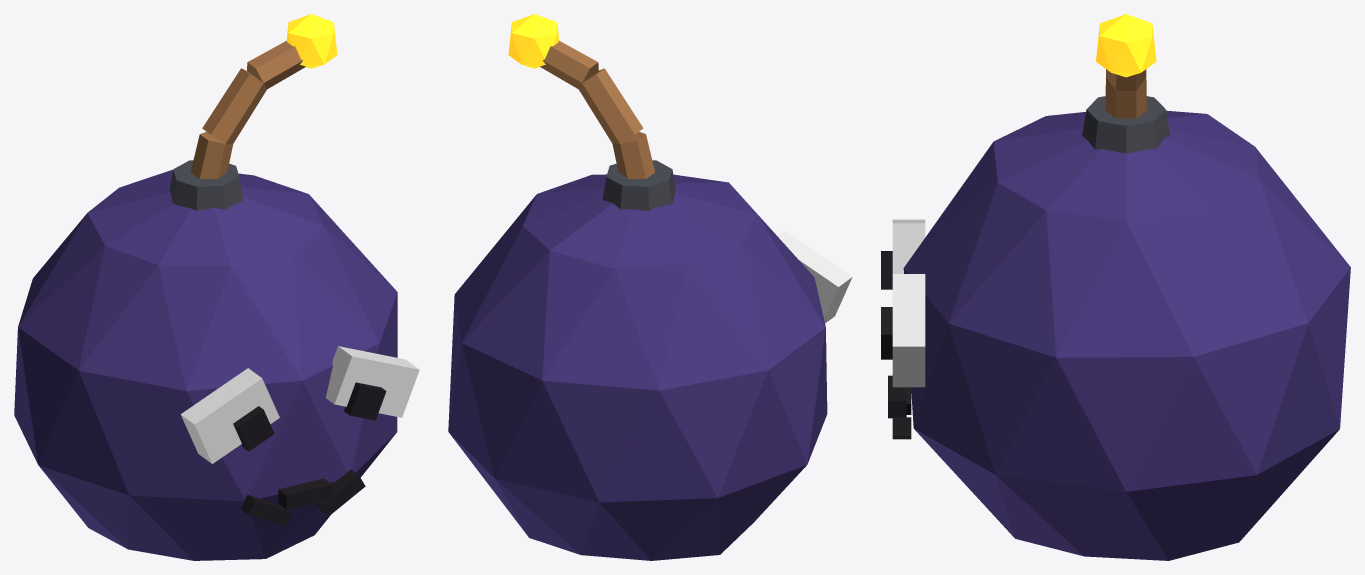
Rendered from bomber.glb.
3 renders of one model, left to right at view 1: azimuth 30°, elevation 25°; view 2: azimuth 150°, elevation 25°; view 3: azimuth 270°, elevation 25°, orthographic. The views are drawn at different scales.
Parts seen in each view (by area): view 1: Bomber; view 2: Bomber; view 3: Bomber.
Boxes of the visible parts, x1,y1,x2,y2 form: Bomber: (14, 14, 419, 560); Bomber: (448, 14, 852, 560); Bomber: (881, 14, 1350, 560).
Bounding box in the file's own units: 0.954 × 1.39 × 1.01.
